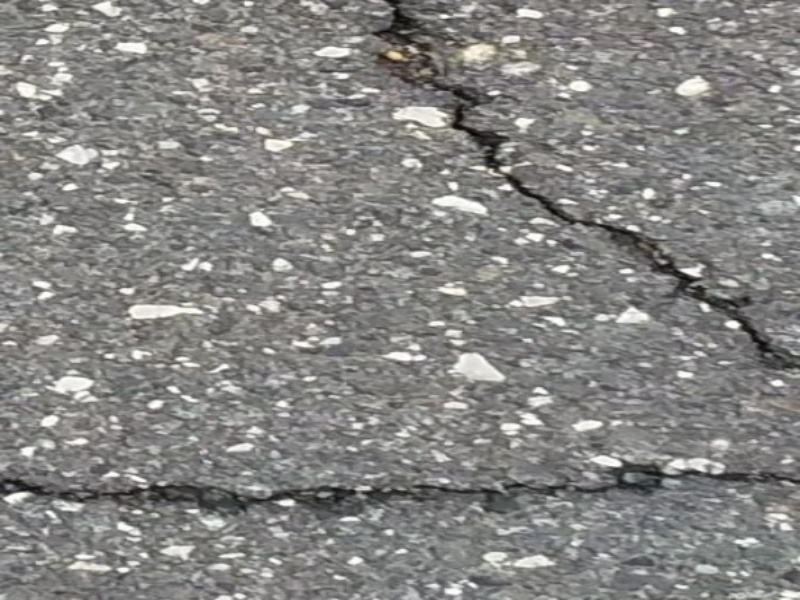crack: (380, 14, 796, 372), (10, 435, 791, 521)
